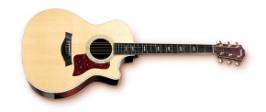guitar: (18, 9, 246, 99)
